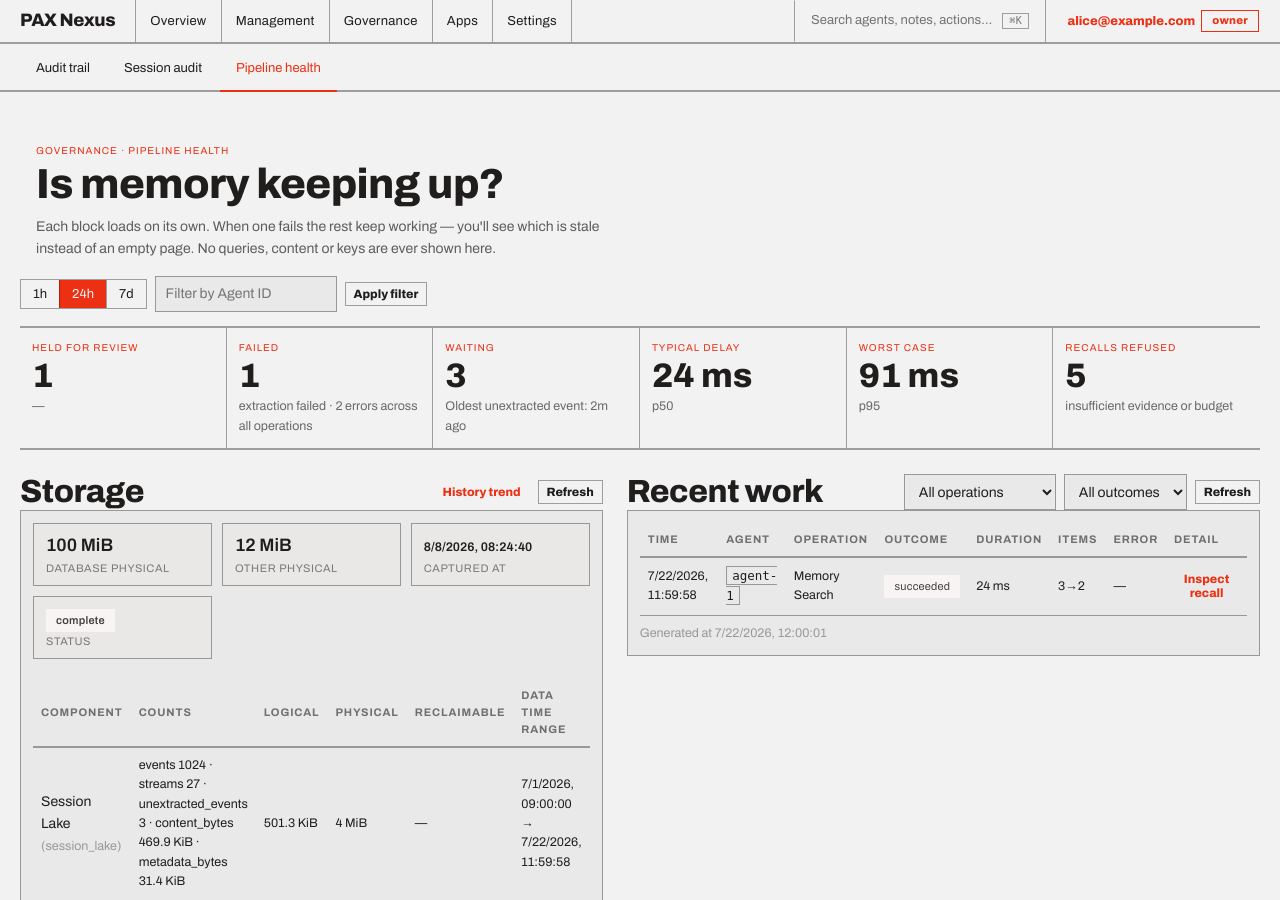
Scenario: section 12 item 12: recall drawer lifecycle for 404, 410 and 500 › 410 diagnostic_expired is terminal and keeps the activity row
Expected: the heading "Is memory keeping up?" is shown, [36,161,504,207]
Click the button "Inspect recall" at (1207, 586), box [1174,567,1239,606]
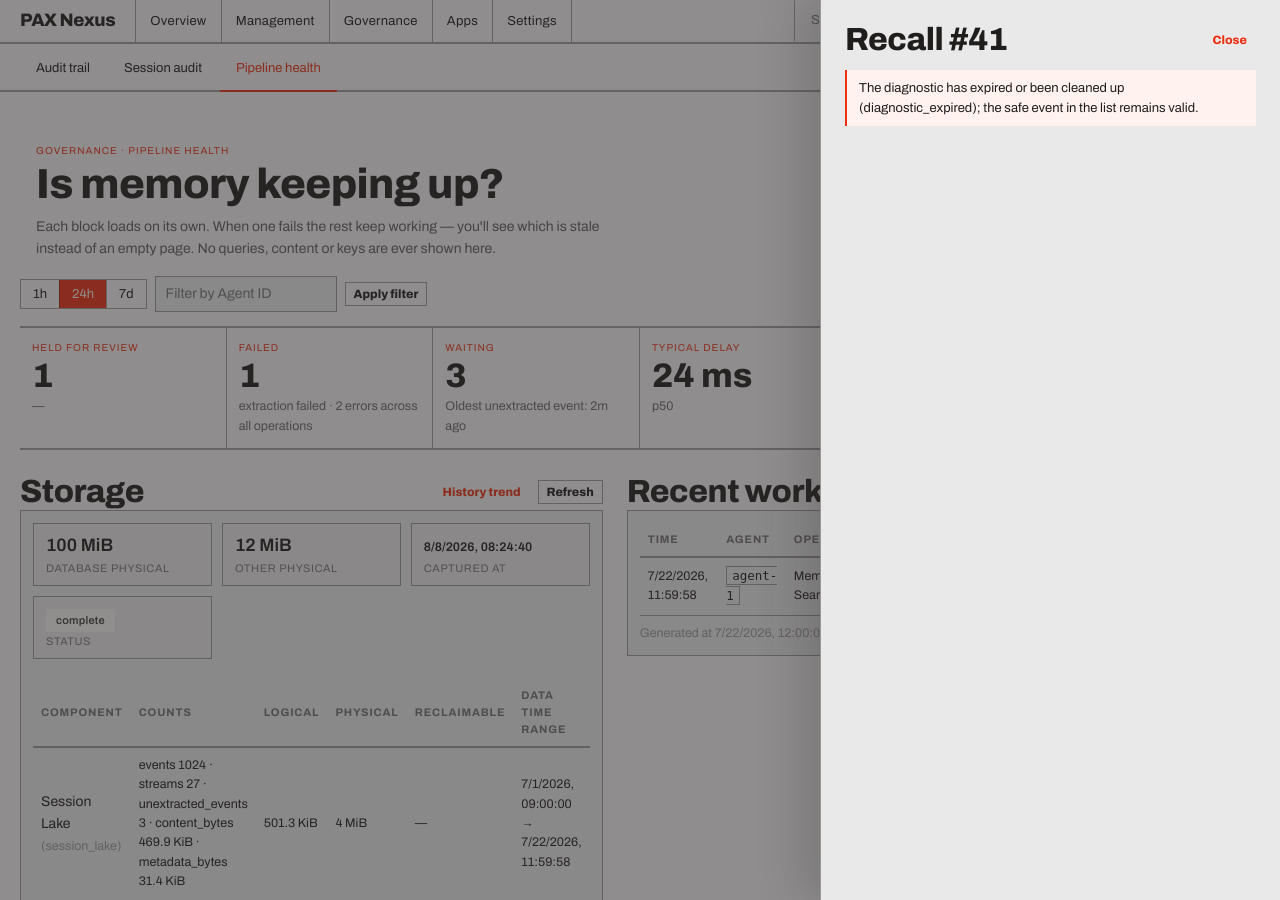
Expected: the text "has expired or been cleaned up" is shown, [859,81,1199,115]
